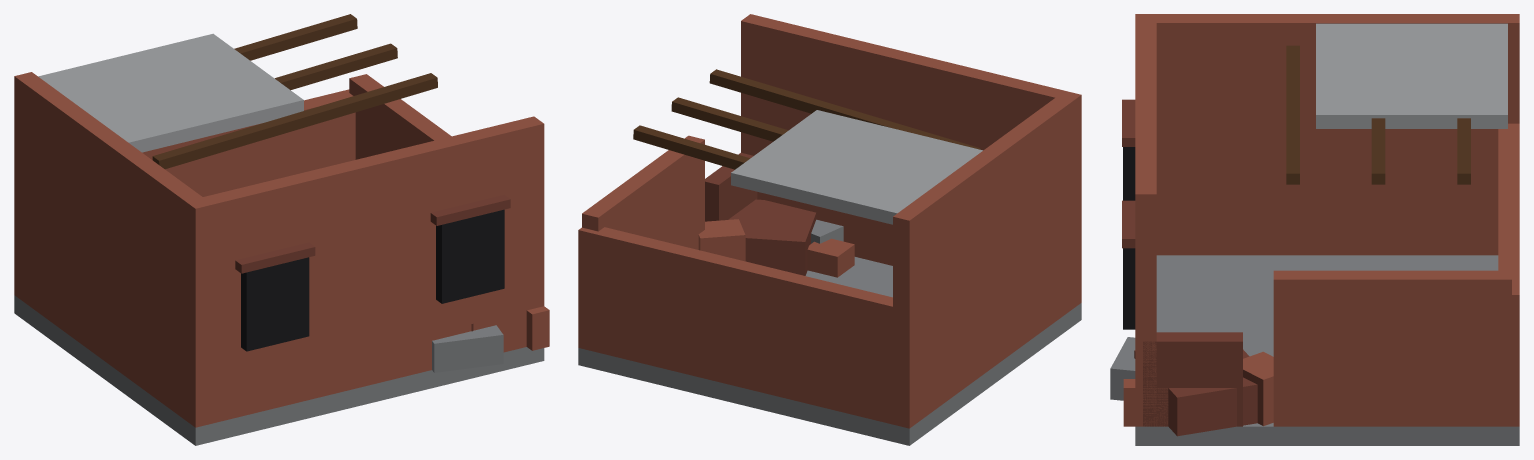
The model's file is bld_ruined.glb.
3 views of the same model, side by side, from view 1: azimuth 30°, elevation 25°; view 2: azimuth 150°, elevation 25°; view 3: azimuth 270°, elevation 25° (orthographic). The views are drawn at different scales.
Visible parts, largest first — view 1: bld_ruined; view 2: bld_ruined; view 3: bld_ruined.
Part boxes in pixels (x1,y1,x2,y2): bld_ruined: (14, 14, 549, 445); bld_ruined: (578, 14, 1081, 445); bld_ruined: (1110, 14, 1519, 445).
Size of the model in its own units: 5.27 by 3.28 by 4.79.
